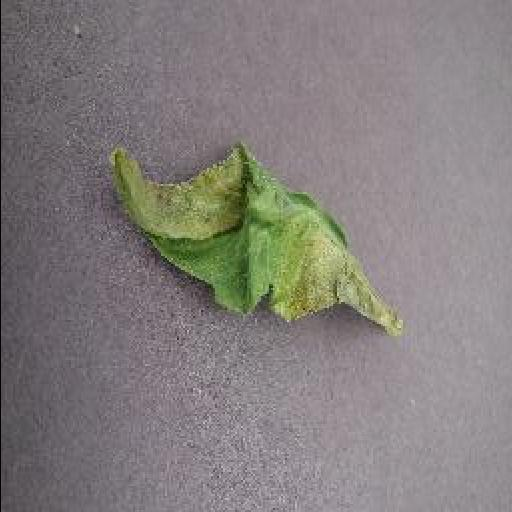disease_tomato: (110, 145, 398, 335)
